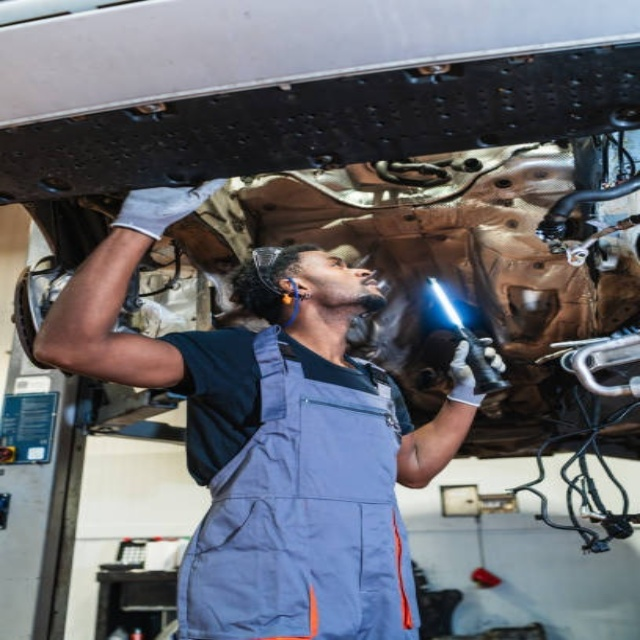Guantes: (105, 176, 231, 239), (447, 333, 513, 407)
Sin_gafas: (304, 252, 351, 278)
Sin_mascara: (347, 273, 389, 301)
